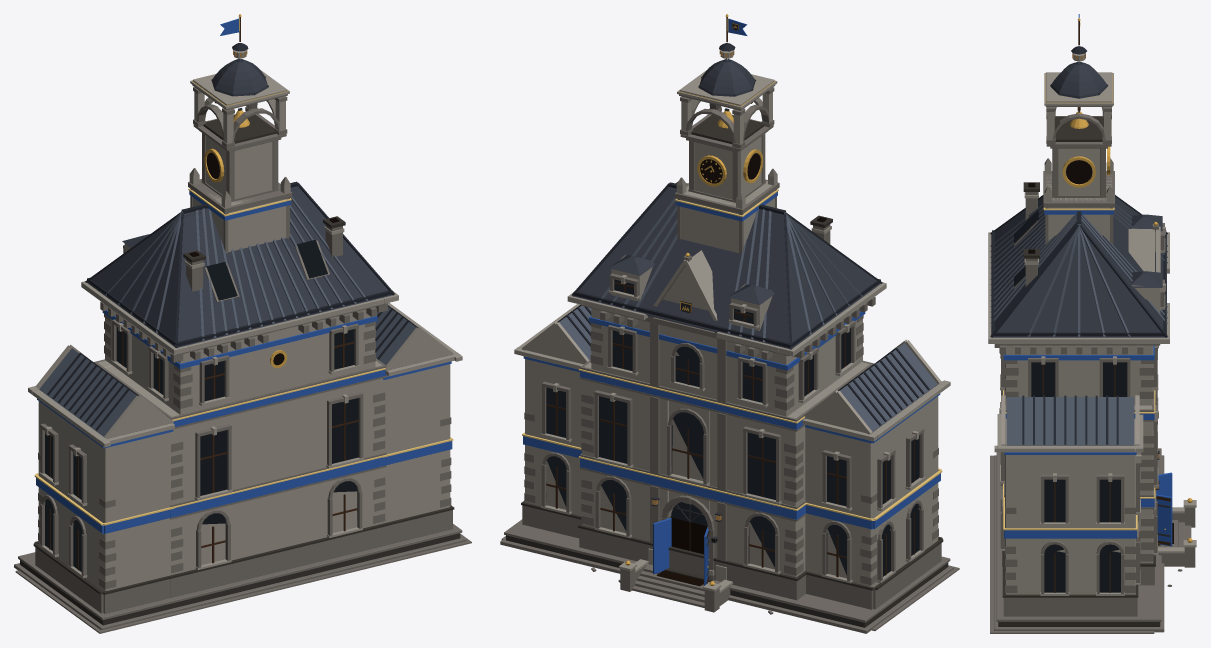
Rendered from 城镇大厅_训练.glb.
3 views of the same model, side by side, from view 1: azimuth 30°, elevation 25°; view 2: azimuth 150°, elevation 25°; view 3: azimuth 270°, elevation 25° (orthographic). The views are drawn at different scales.
Parts seen in each view (by area): view 1: TH-主体, TH-自发光, TH-team, TH-team_trim; view 2: TH-主体, TH-自发光, TH-team, TH-team_trim; view 3: TH-主体, TH-自发光, TH-team, TH-team_trim.
Part boxes in pixels (box(x1,y1,x2,y2)): TH-主体: box(14, 14, 471, 633); TH-自发光: box(45, 50, 358, 571); TH-team: box(36, 18, 452, 533); TH-team_trim: box(34, 18, 453, 525); TH-主体: box(500, 14, 959, 633); TH-自发光: box(546, 23, 919, 576); TH-team: box(523, 18, 940, 585); TH-team_trim: box(522, 18, 942, 520); TH-主体: box(988, 18, 1196, 633); TH-自发光: box(1014, 54, 1158, 592); TH-team: box(1003, 14, 1172, 546); TH-team_trim: box(1003, 207, 1155, 530).
Bounding box in the file's own units: 18.1 × 25.18 × 8.99.
Materials: 4 (2 with a texture image).
